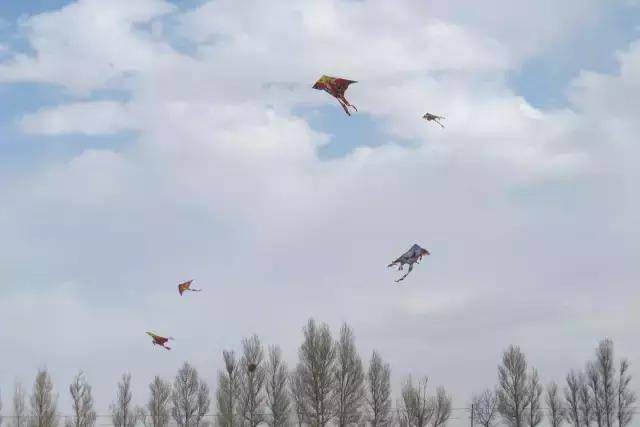kite: (313, 73, 360, 115), (387, 242, 432, 284), (146, 326, 175, 351), (418, 110, 447, 131), (174, 277, 200, 297)
